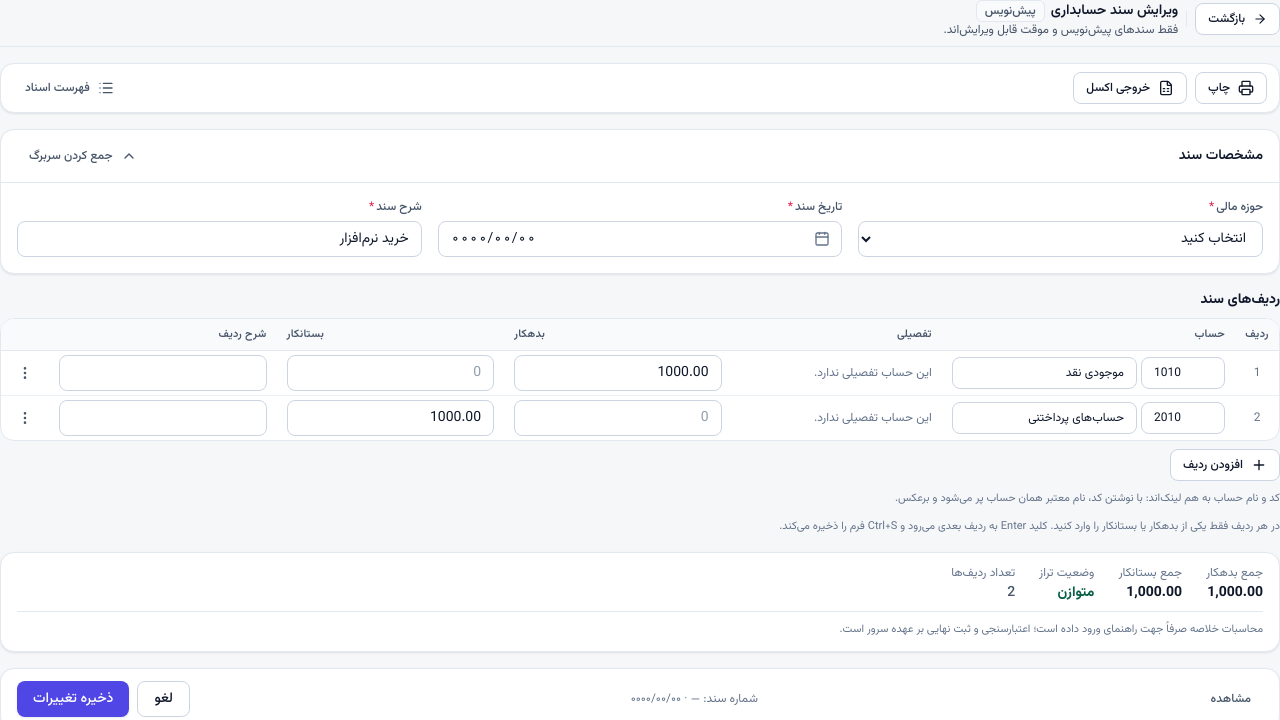
Scenario: Document edit — submission › updates the document with the edited fields and navigates to its detail page
Replace the text in the field labelled "شرح سند" with "شرح ویرایش‌شده" at (219, 239), box [17,221,422,257]
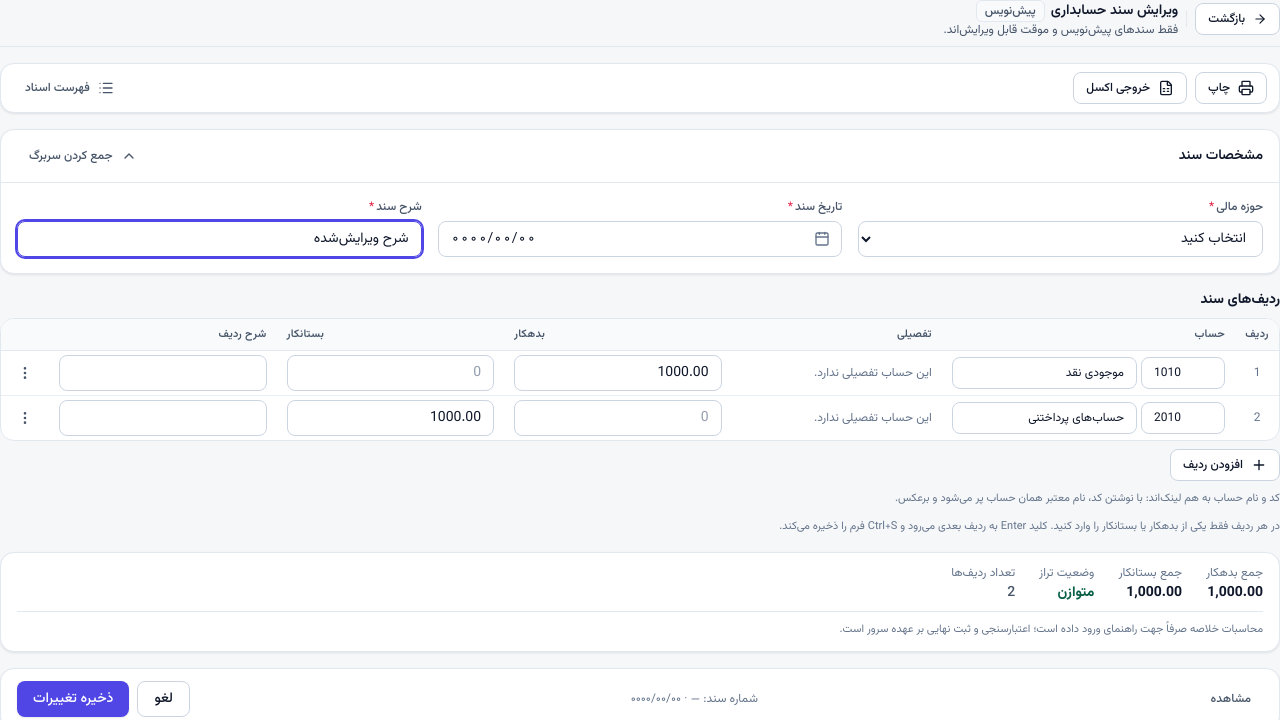
Click the button "ذخیره تغییرات" at (73, 699), box [17,681,129,717]
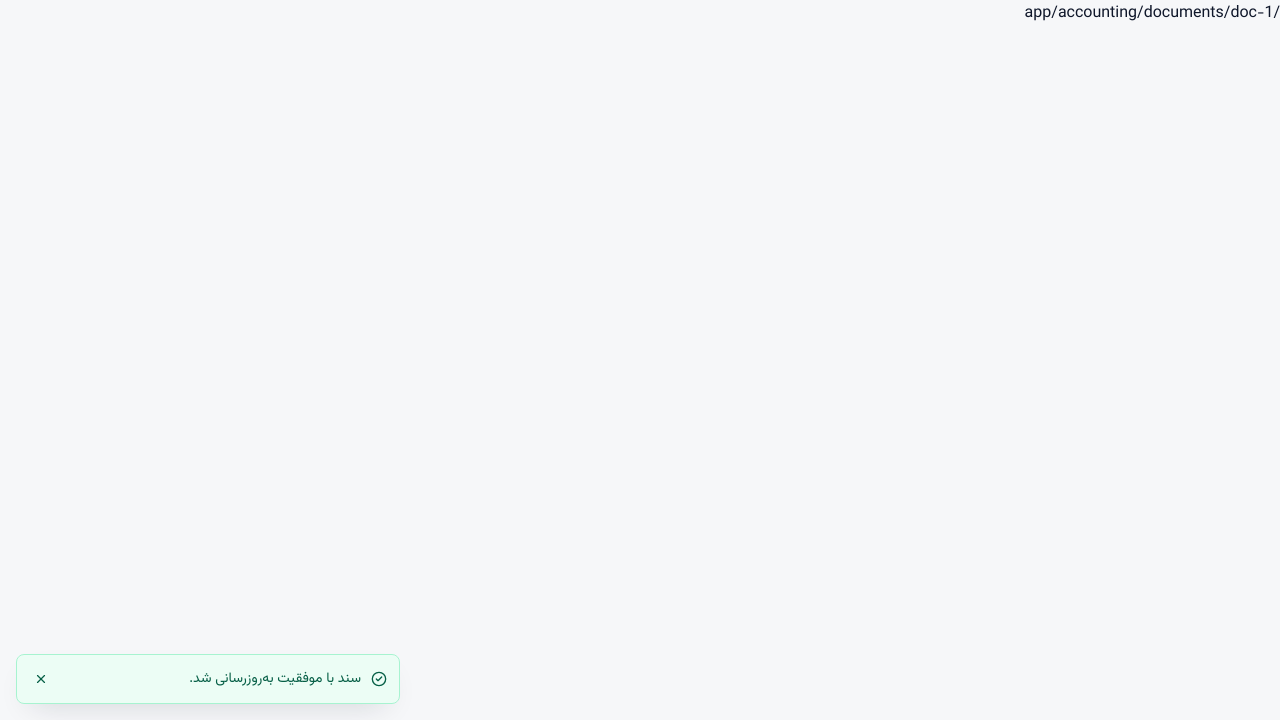
Now the text named "loc-pathname" reads "/app/accounting/documents/doc-1", box [1025,1,1279,26]
